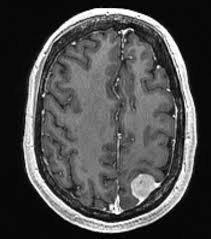Tumour-Meningioma: (119, 165, 164, 207)
